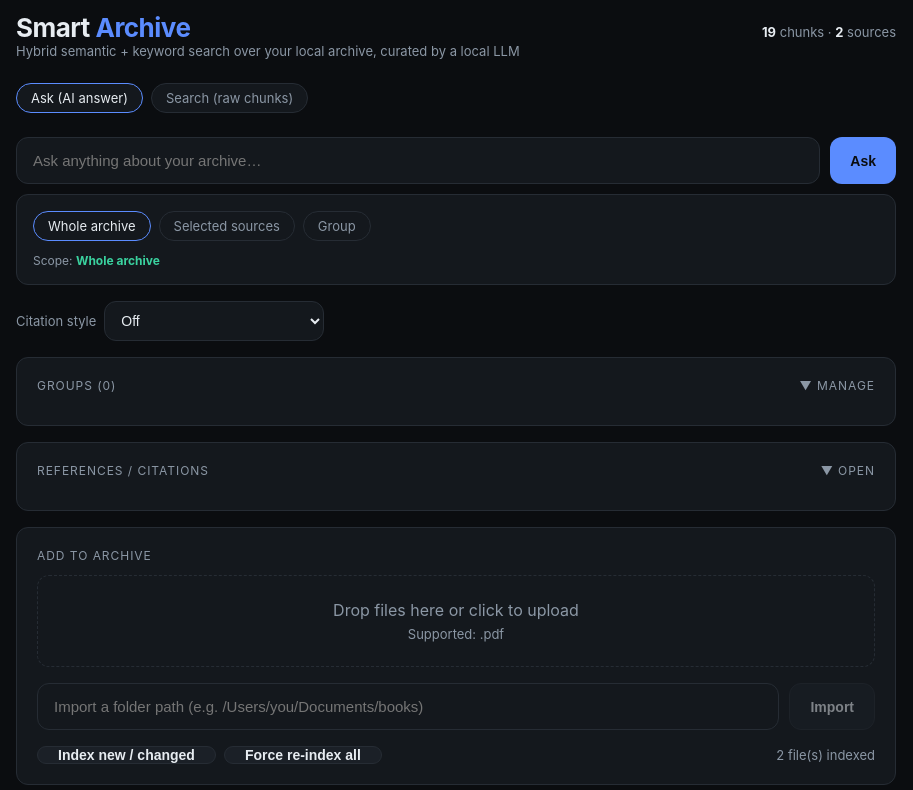
Bibliography_Block visibility (Req 6.3, 6.4, 6.5) › renders no block while the selector is Off, even with cited sources
Type "what is alpha?" into the field with placeholder "Ask anything about your archive…" at (418, 160), box [16, 137, 820, 184]
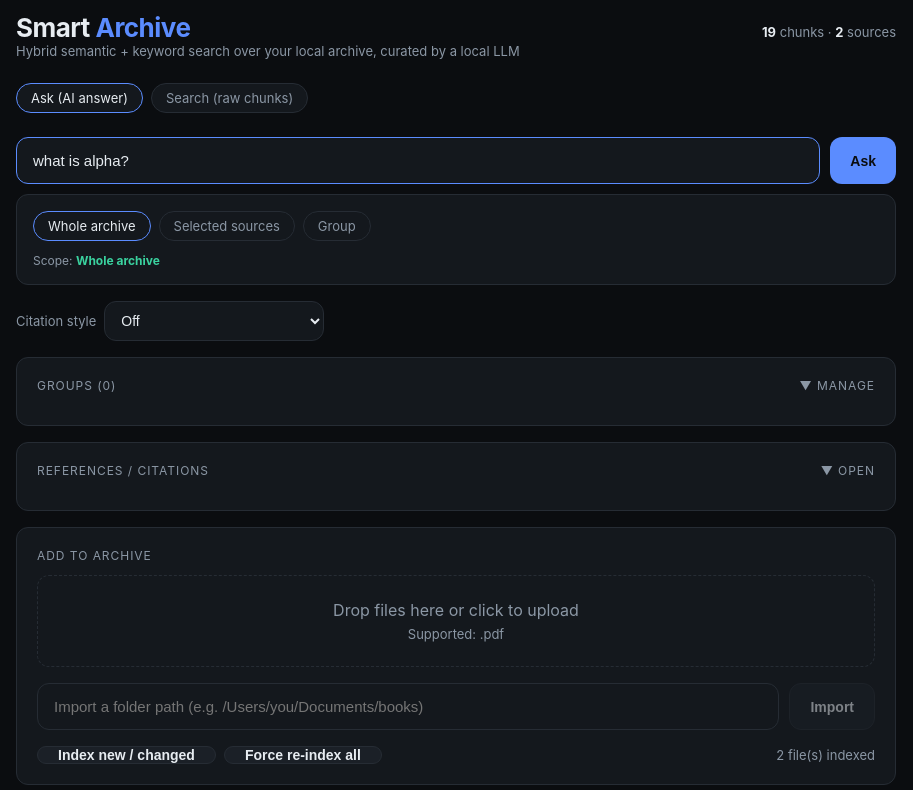
Click the button "Ask" at (863, 160), box [830, 137, 896, 184]
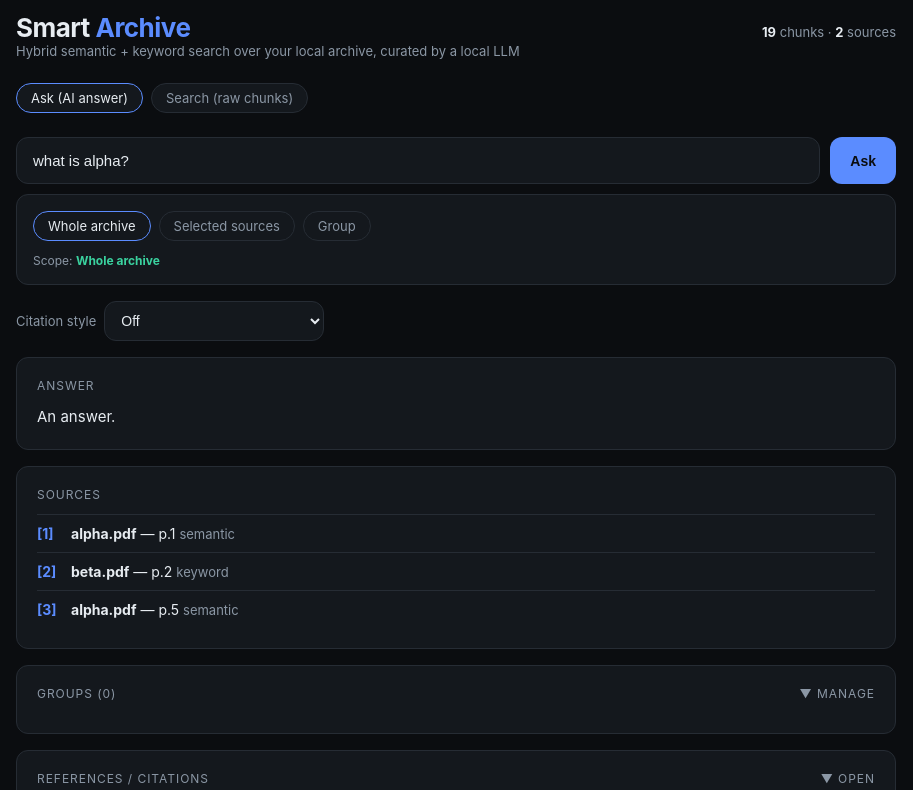
Expected: the dropdown labelled "Citation style" shows "Off", [104, 301, 324, 341]
Expected: the text "Sources" is shown, [37, 487, 101, 502]
